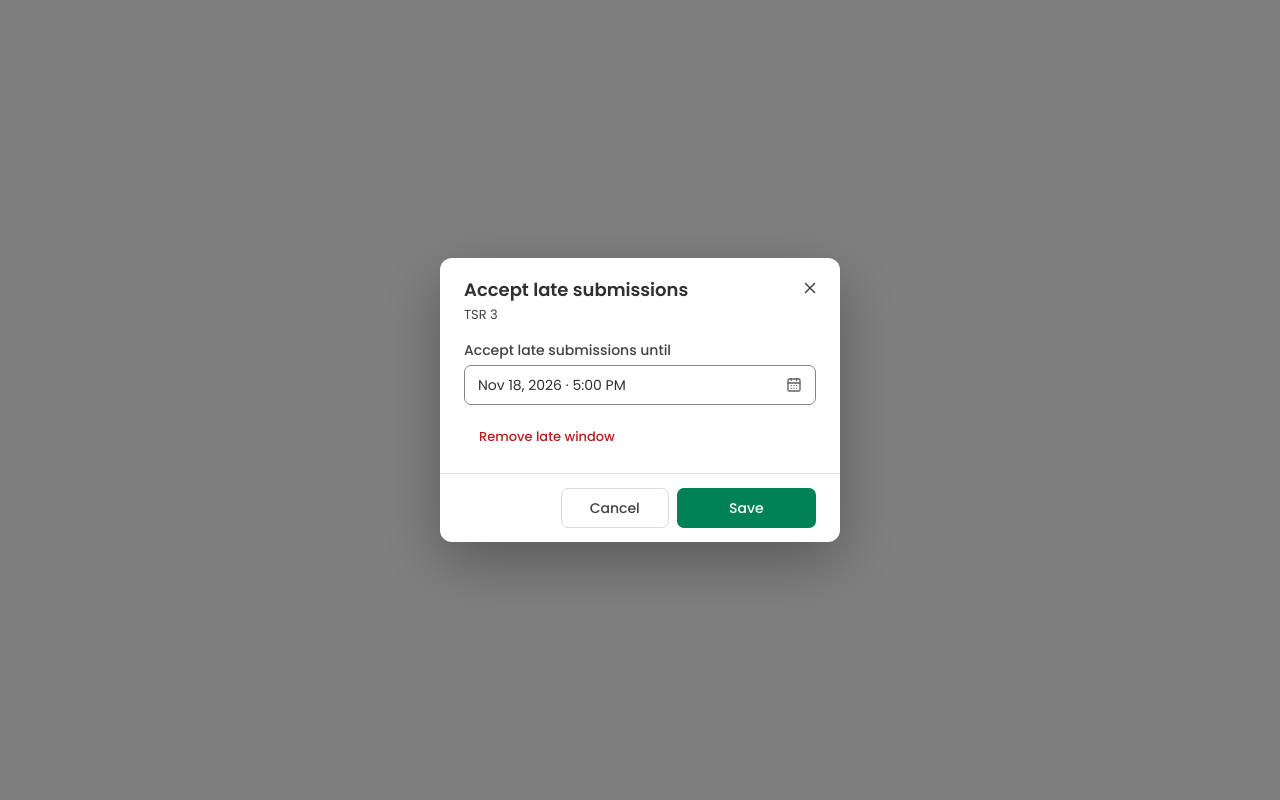
LateWindowModal › says what failed when a removal fails without a message
Click the button "Remove late window": (547, 437) [464,421,630,453]
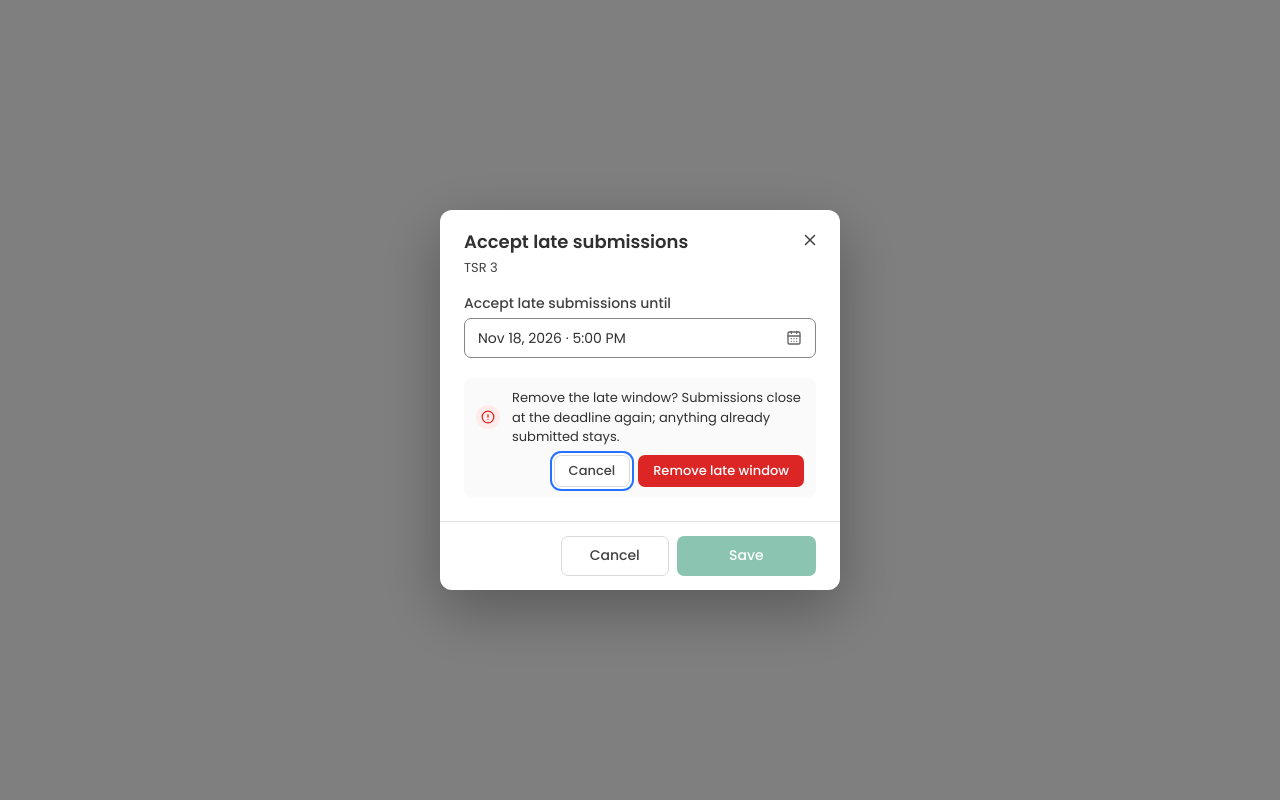
Click the button "Remove late window": (721, 471) [638,455,804,487]
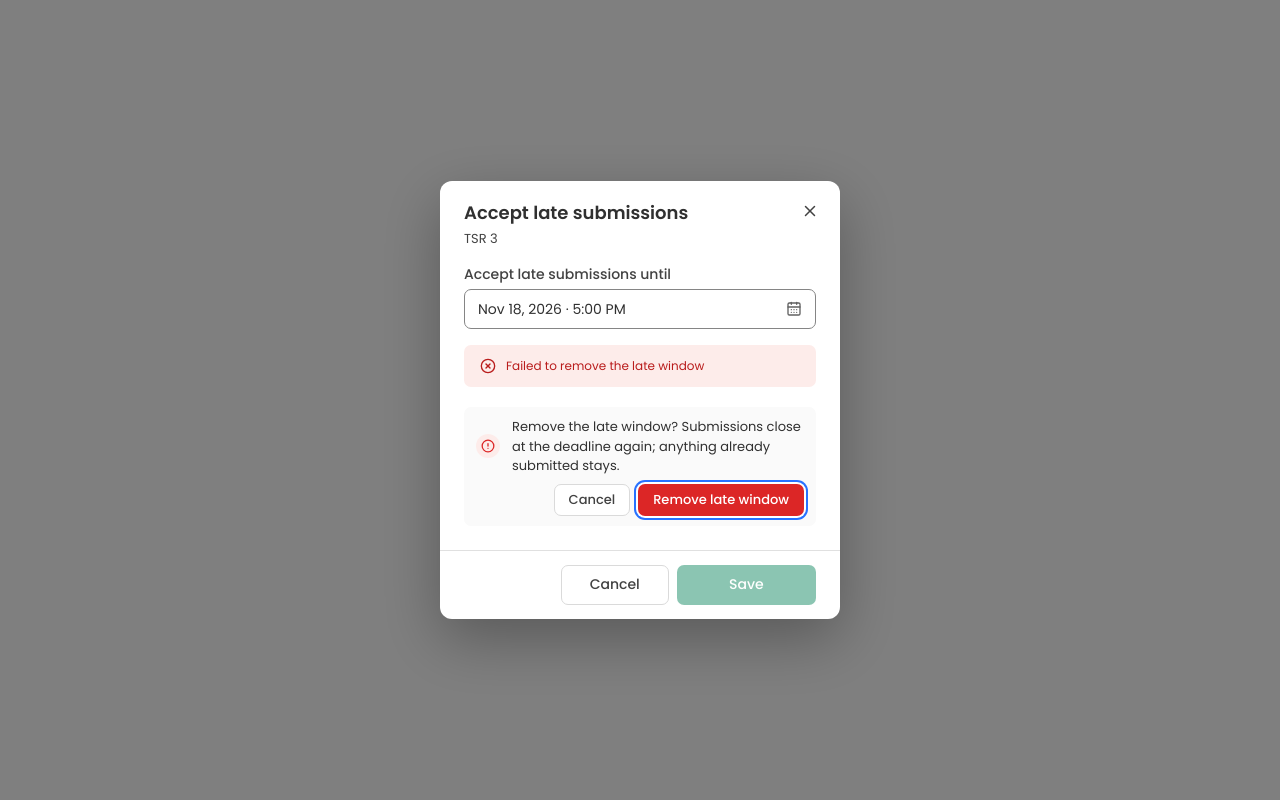
Expected: the button "Remove late window" is enabled, [638,484,804,516]
Result: the message reads "Failed to remove the late window" at [506,357,704,374]
